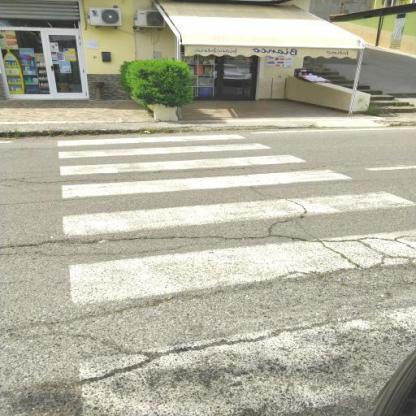crosswalk: (55, 224, 416, 416), (53, 153, 357, 203)
